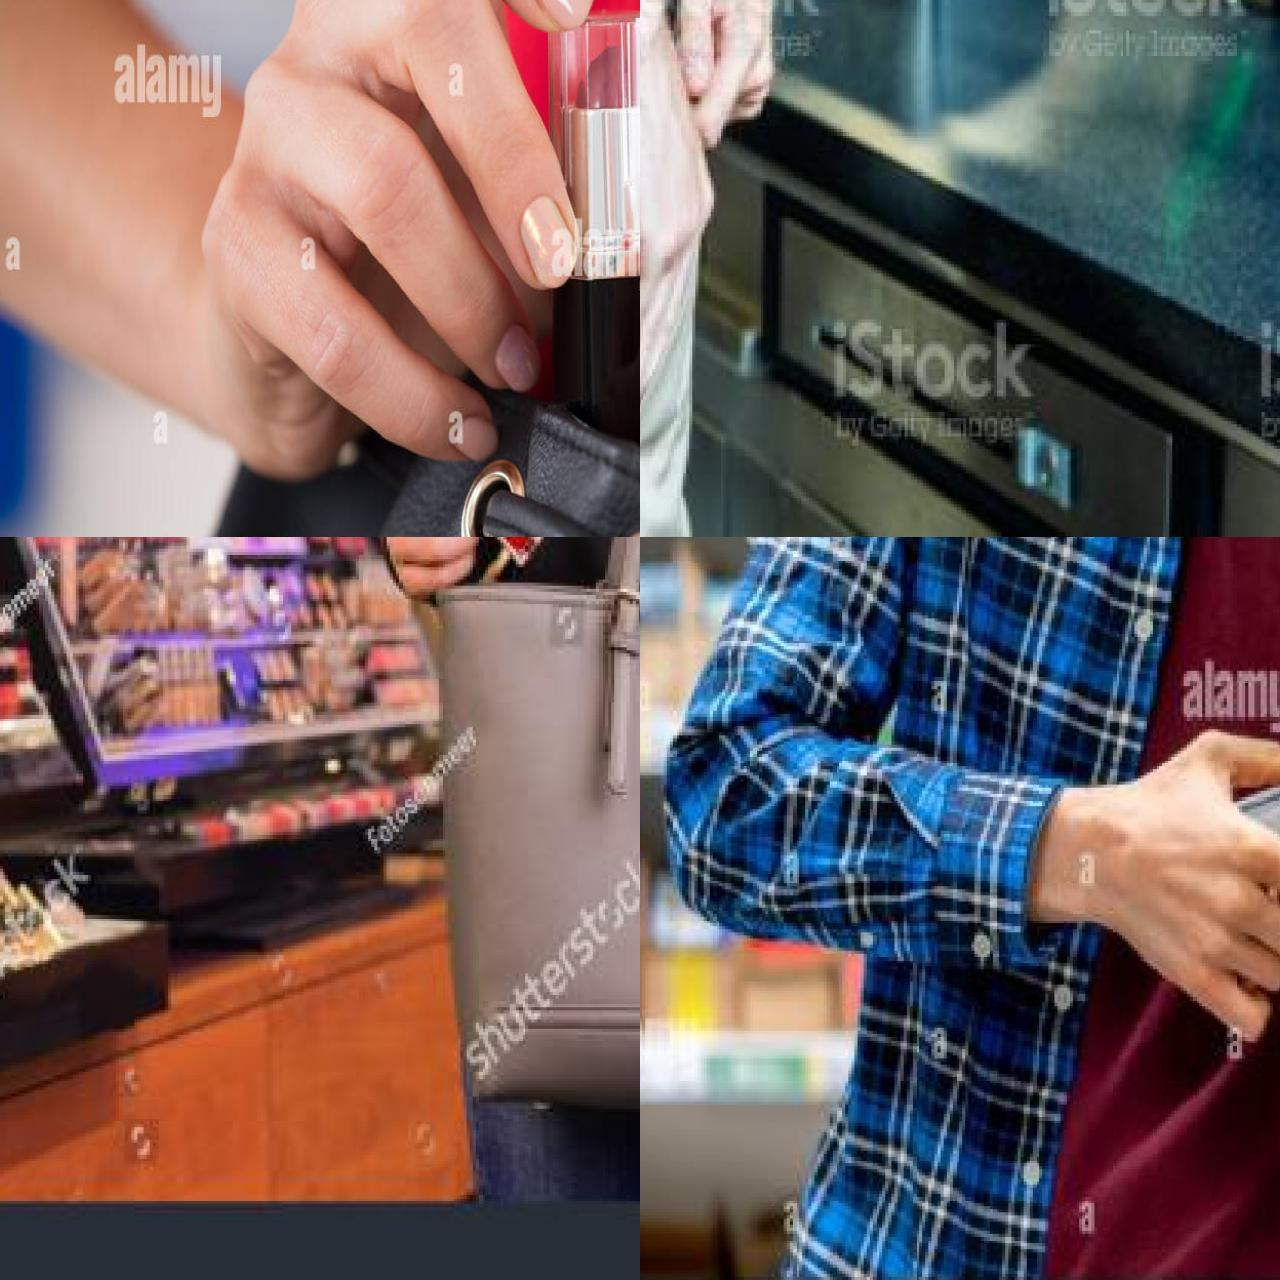Shoplifting: (836, 537, 1280, 1258), (193, 0, 640, 537), (640, 0, 1035, 537), (291, 537, 640, 1064)
